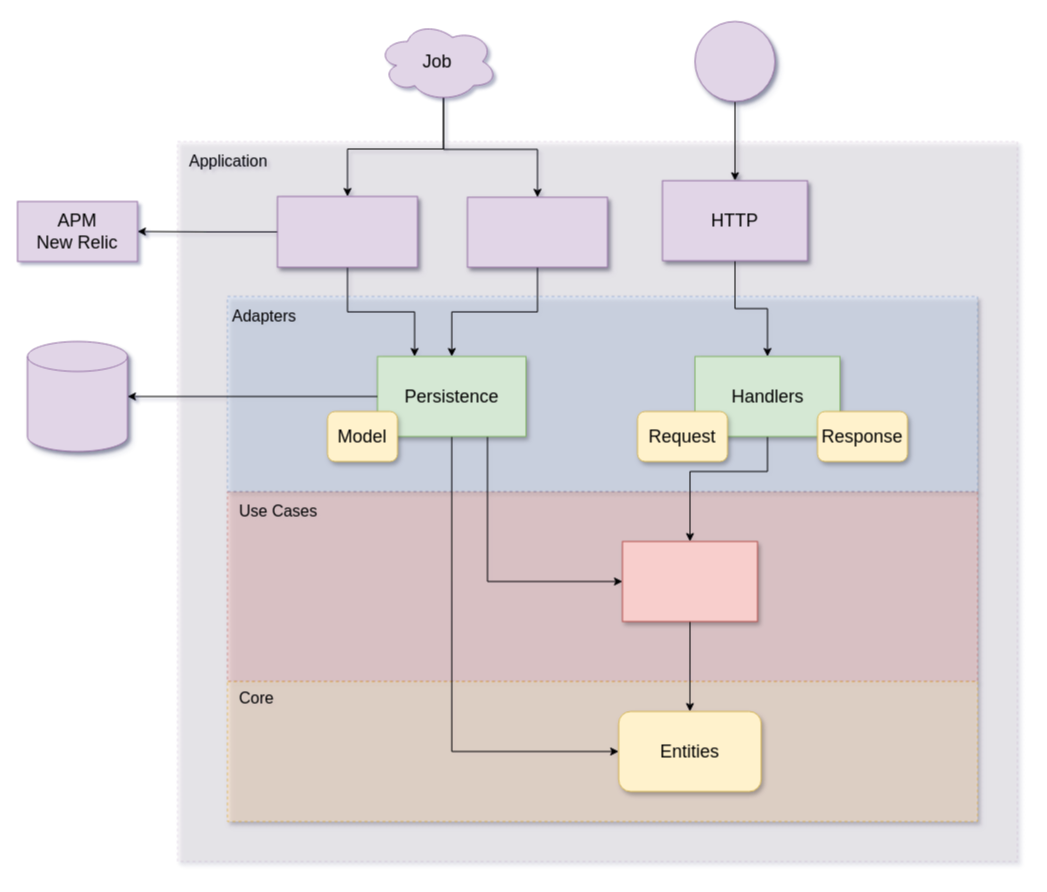
The diagram is 1047 pixels wide and 892 high, and some of its shapes have lost their labels. The shapes that lost their labels are listed below. From the top down, each one's centre as x and y in pixels, then its label:
the point at 735,62: User
the point at 348,233: OS Execution Metrics
the point at 538,233: Migations
the point at 78,397: Database RDS
the point at 691,582: UseCase
